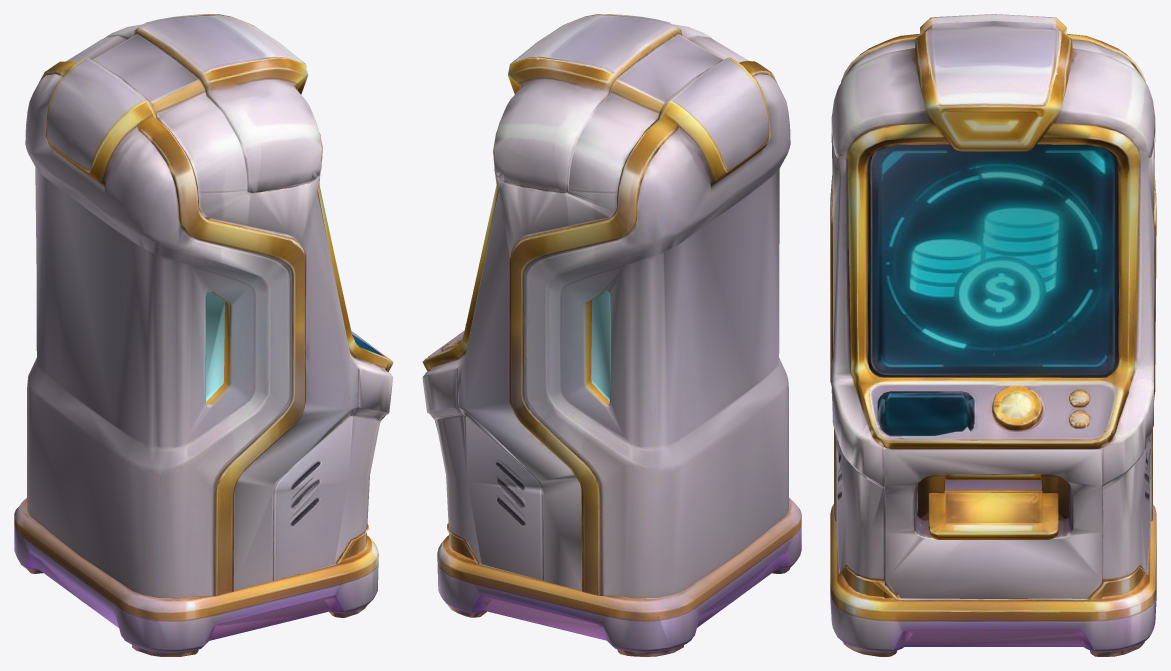
Rendered from maquina.glb.
The picture shows the model from 3 angles, left to right: view 1: azimuth 30°, elevation 25°; view 2: azimuth 150°, elevation 25°; view 3: azimuth 270°, elevation 25°; orthographic projection. The views are drawn at different scales.
Visible parts, largest first — view 1: tripo_node_88049d36-5562-4337-8bbb-f0a908bbe5aa; view 2: tripo_node_88049d36-5562-4337-8bbb-f0a908bbe5aa; view 3: tripo_node_88049d36-5562-4337-8bbb-f0a908bbe5aa.
Part boxes in pixels (x1=…): tripo_node_88049d36-5562-4337-8bbb-f0a908bbe5aa: x1=14, y1=14, x2=393, y2=656; tripo_node_88049d36-5562-4337-8bbb-f0a908bbe5aa: x1=422, y1=14, x2=801, y2=656; tripo_node_88049d36-5562-4337-8bbb-f0a908bbe5aa: x1=830, y1=14, x2=1156, y2=656.
Size of the model in its own units: 0.2652 by 0.5 by 0.2632.
Materials: 1 (1 with a texture image).
